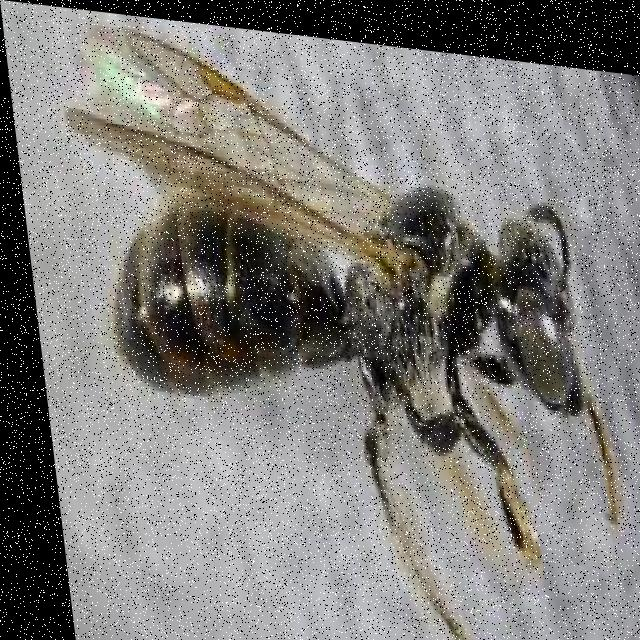Braunsapis: (23, 3, 640, 640)
